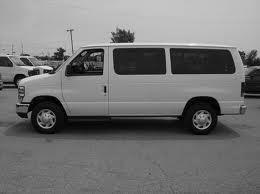car: (18, 44, 250, 138)
